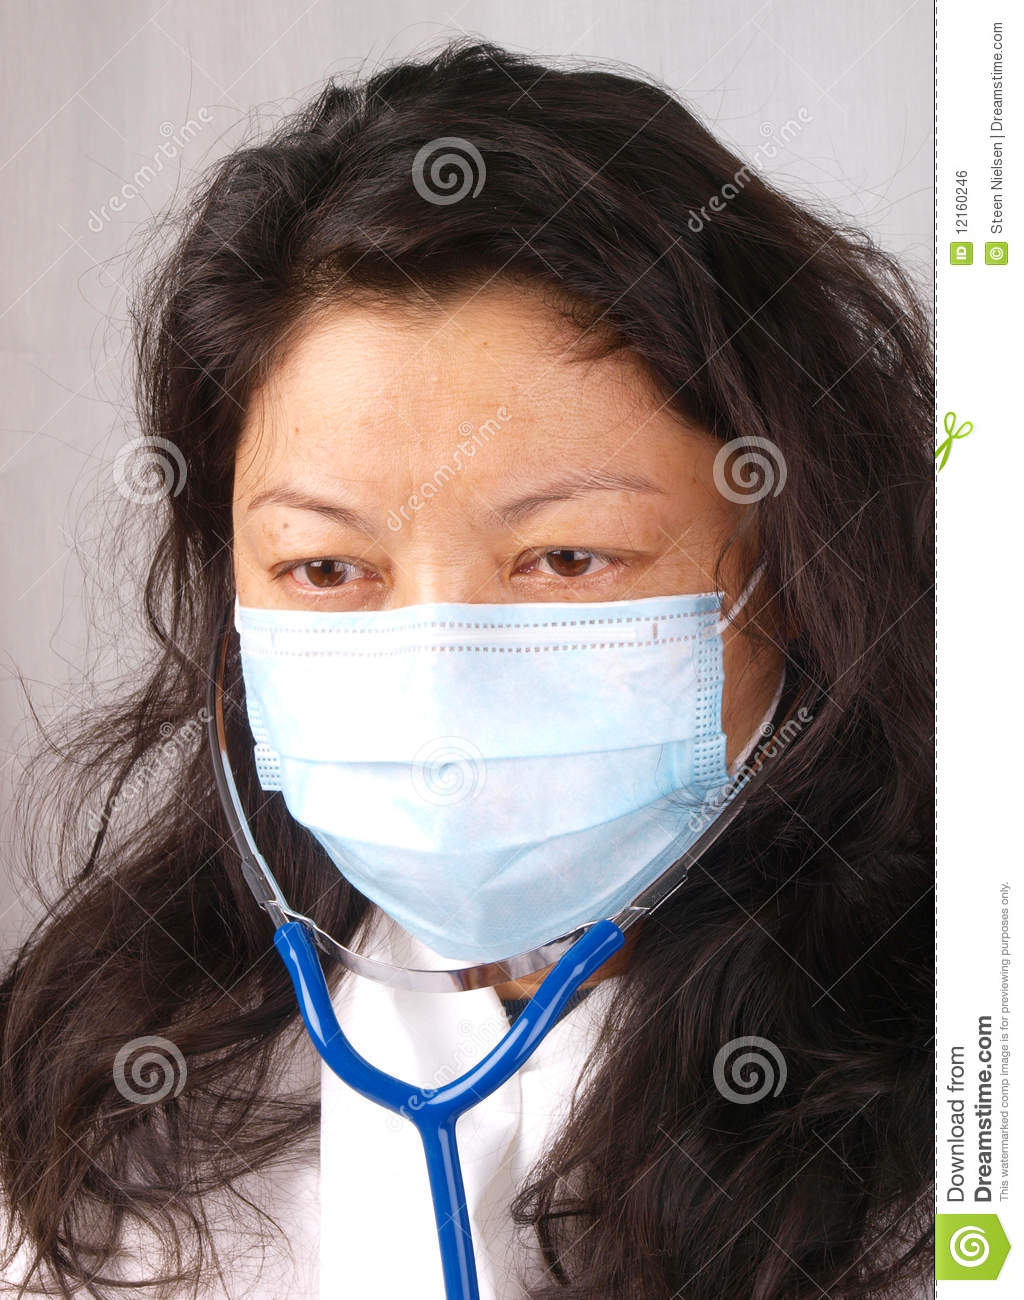mask: (232, 599, 731, 966)
